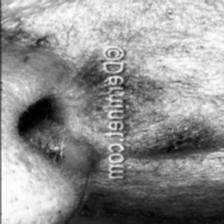Toxin: (121, 68, 224, 164), (68, 59, 106, 131)
